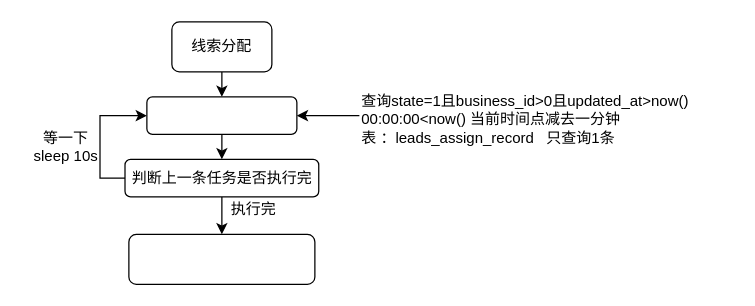
The diagram is 755 pixels wide and 306 high, and some of its shapes have lost their labels. Each missing label, with the centre of its shape:
"获取任务待分配的总数和待分配stafflist详请" goes at point 221,258.
"获取待执行任务" goes at point 221,115.
